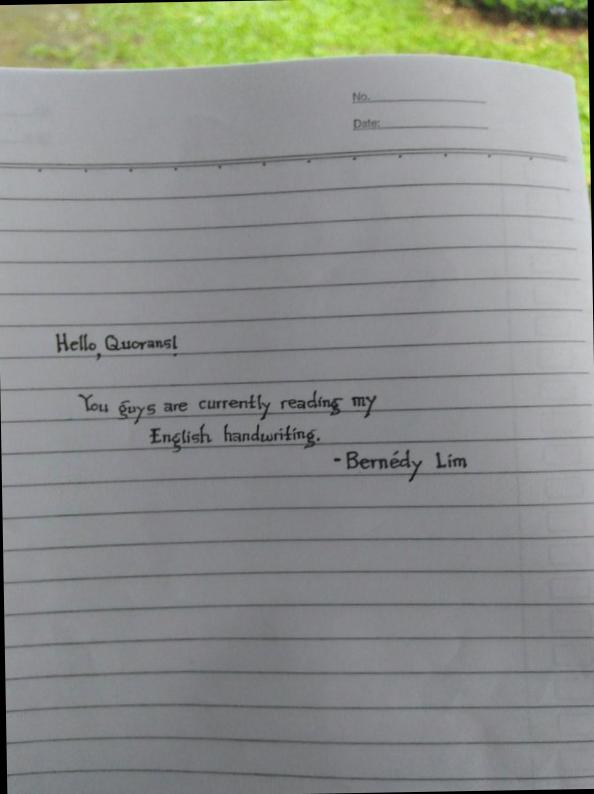text: (74, 383, 379, 431), (145, 418, 322, 457), (329, 446, 473, 488), (52, 327, 180, 364), (350, 115, 384, 132), (350, 89, 370, 104)
